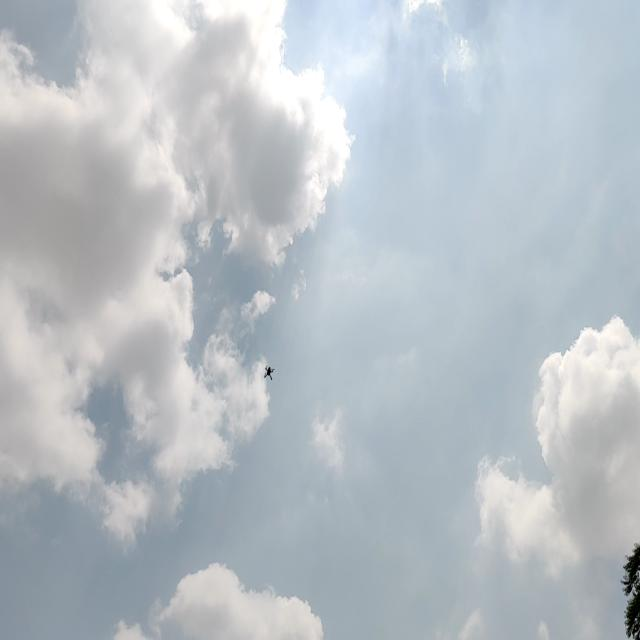drone: (262, 360, 274, 386)
